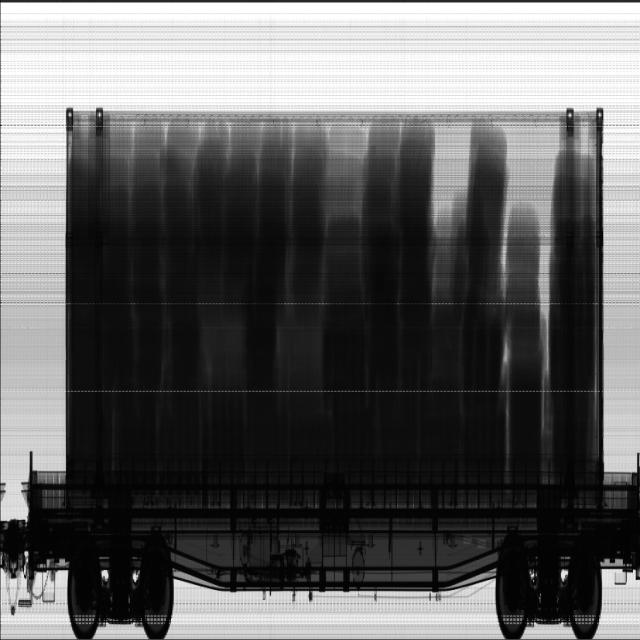textiles: (69, 120, 598, 463)
